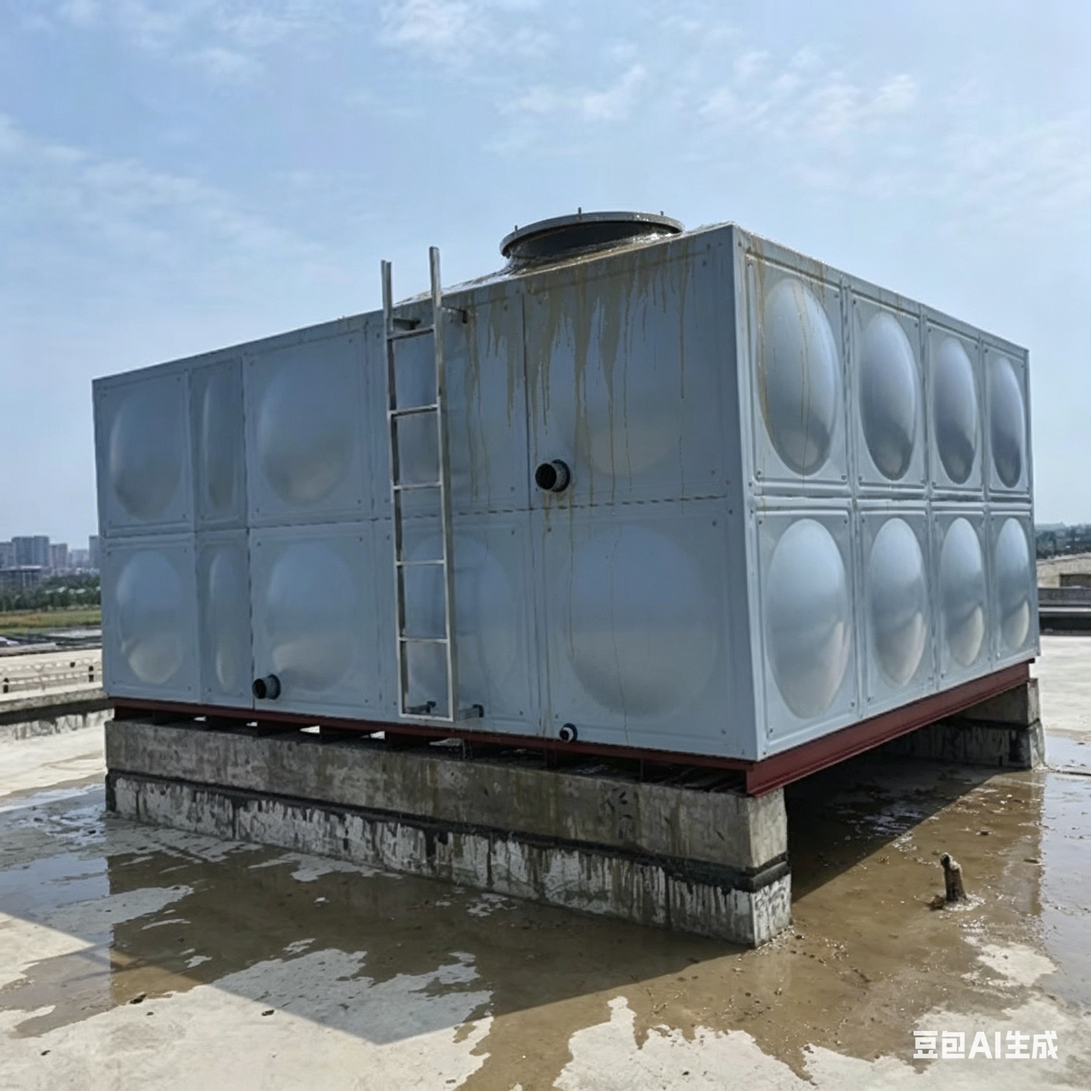Leakage: (800, 794, 1091, 1057), (401, 886, 794, 1079), (26, 842, 385, 981), (16, 971, 148, 1025)
